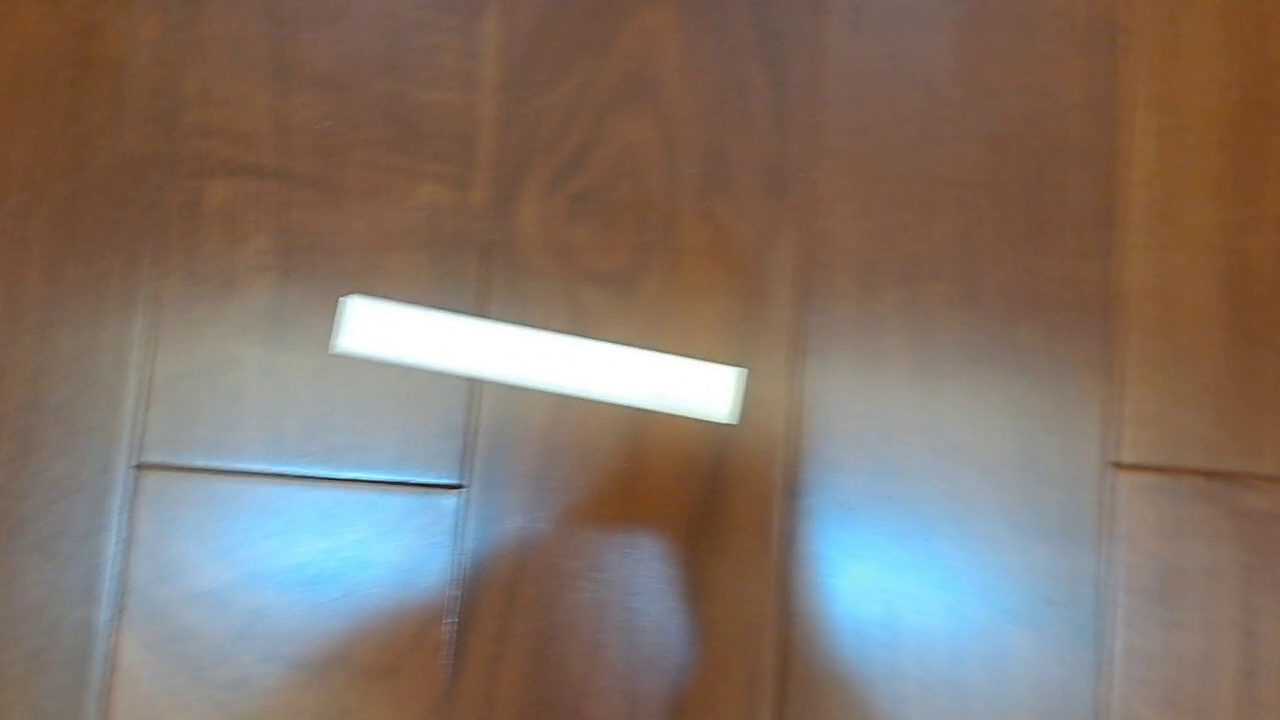ruler: (327, 291, 751, 426)
